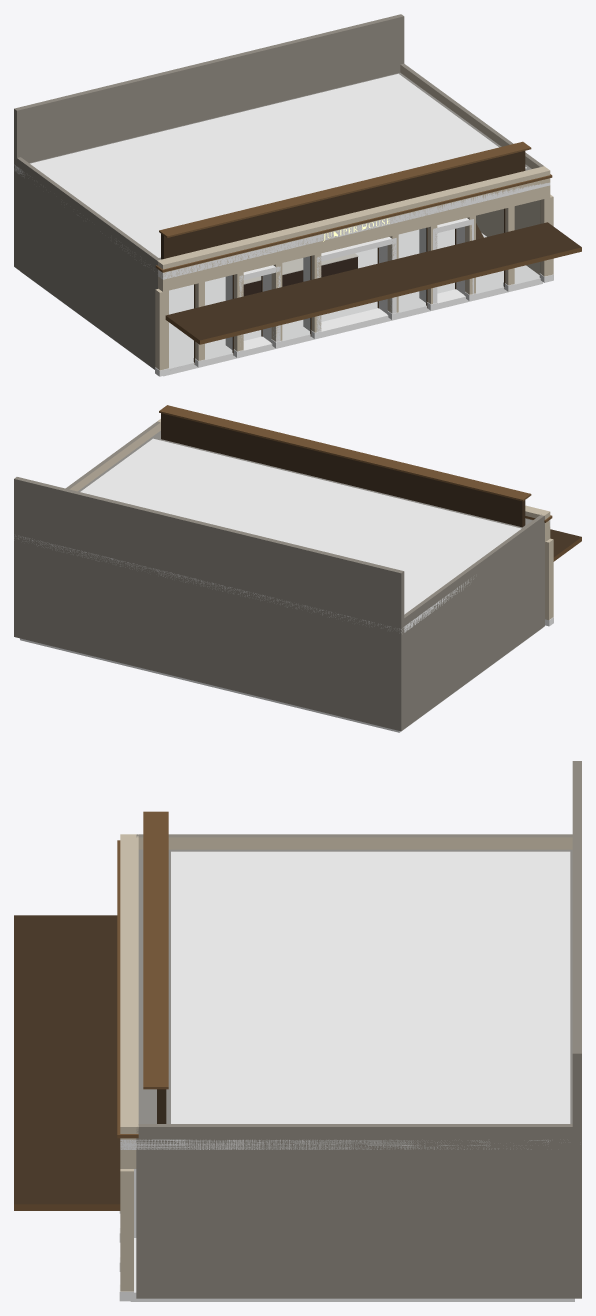
File: juniper_house_lod2.glb
The picture shows the model from 3 angles, top to bottom: view 1: azimuth 30°, elevation 25°; view 2: azimuth 150°, elevation 25°; view 3: azimuth 270°, elevation 25°; orthographic projection. The views are drawn at different scales.
Parts seen in each view (by area): view 1: B02_LOD2_BUILDING_EXTERIOR_Stone, B02_LOD2_BUILDING_EXTERIOR_Roof, B02_LOD2_BUILDING_EXTERIOR_RearInterface, B02_LOD2_FACADE_DETAILS_Bronze, B02_LOD2_BUILDING_INTERIOR_GroundSlab, B02_LOD2_DISPLAY_OBJECTS_Bar; view 2: B02_LOD2_BUILDING_EXTERIOR_Stone, B02_LOD2_BUILDING_EXTERIOR_RearInterface, B02_LOD2_BUILDING_EXTERIOR_Roof, B02_LOD2_FACADE_DETAILS_Bronze, B02_LOD2_BUILDING_INTERIOR_GroundSlab; view 3: B02_LOD2_BUILDING_EXTERIOR_Roof, B02_LOD2_BUILDING_EXTERIOR_Stone, B02_LOD2_FACADE_DETAILS_Bronze, B02_LOD2_BUILDING_EXTERIOR_RearInterface, B02_LOD2_BUILDING_INTERIOR_GroundSlab.
Boxes of the visible parts, x1,y1,x2,y2 form: B02_LOD2_BUILDING_EXTERIOR_Stone: (14, 63, 553, 376); B02_LOD2_BUILDING_EXTERIOR_Roof: (14, 72, 550, 279); B02_LOD2_BUILDING_EXTERIOR_RearInterface: (14, 14, 404, 266); B02_LOD2_FACADE_DETAILS_Bronze: (155, 141, 581, 344); B02_LOD2_BUILDING_INTERIOR_GroundSlab: (20, 229, 542, 376); B02_LOD2_DISPLAY_OBJECTS_Bar: (243, 253, 358, 296); B02_LOD2_BUILDING_EXTERIOR_Stone: (14, 413, 553, 731); B02_LOD2_BUILDING_EXTERIOR_RearInterface: (14, 477, 404, 730); B02_LOD2_BUILDING_EXTERIOR_Roof: (14, 430, 550, 633); B02_LOD2_FACADE_DETAILS_Bronze: (159, 405, 581, 561); B02_LOD2_BUILDING_INTERIOR_GroundSlab: (20, 628, 542, 732); B02_LOD2_BUILDING_EXTERIOR_Roof: (120, 849, 572, 1149); B02_LOD2_BUILDING_EXTERIOR_Stone: (119, 834, 581, 1301); B02_LOD2_FACADE_DETAILS_Bronze: (14, 811, 168, 1210); B02_LOD2_BUILDING_EXTERIOR_RearInterface: (572, 761, 581, 1298); B02_LOD2_BUILDING_INTERIOR_GroundSlab: (130, 1238, 574, 1301).
Size of the model in its own units: 30.56 by 12 by 24.6.
